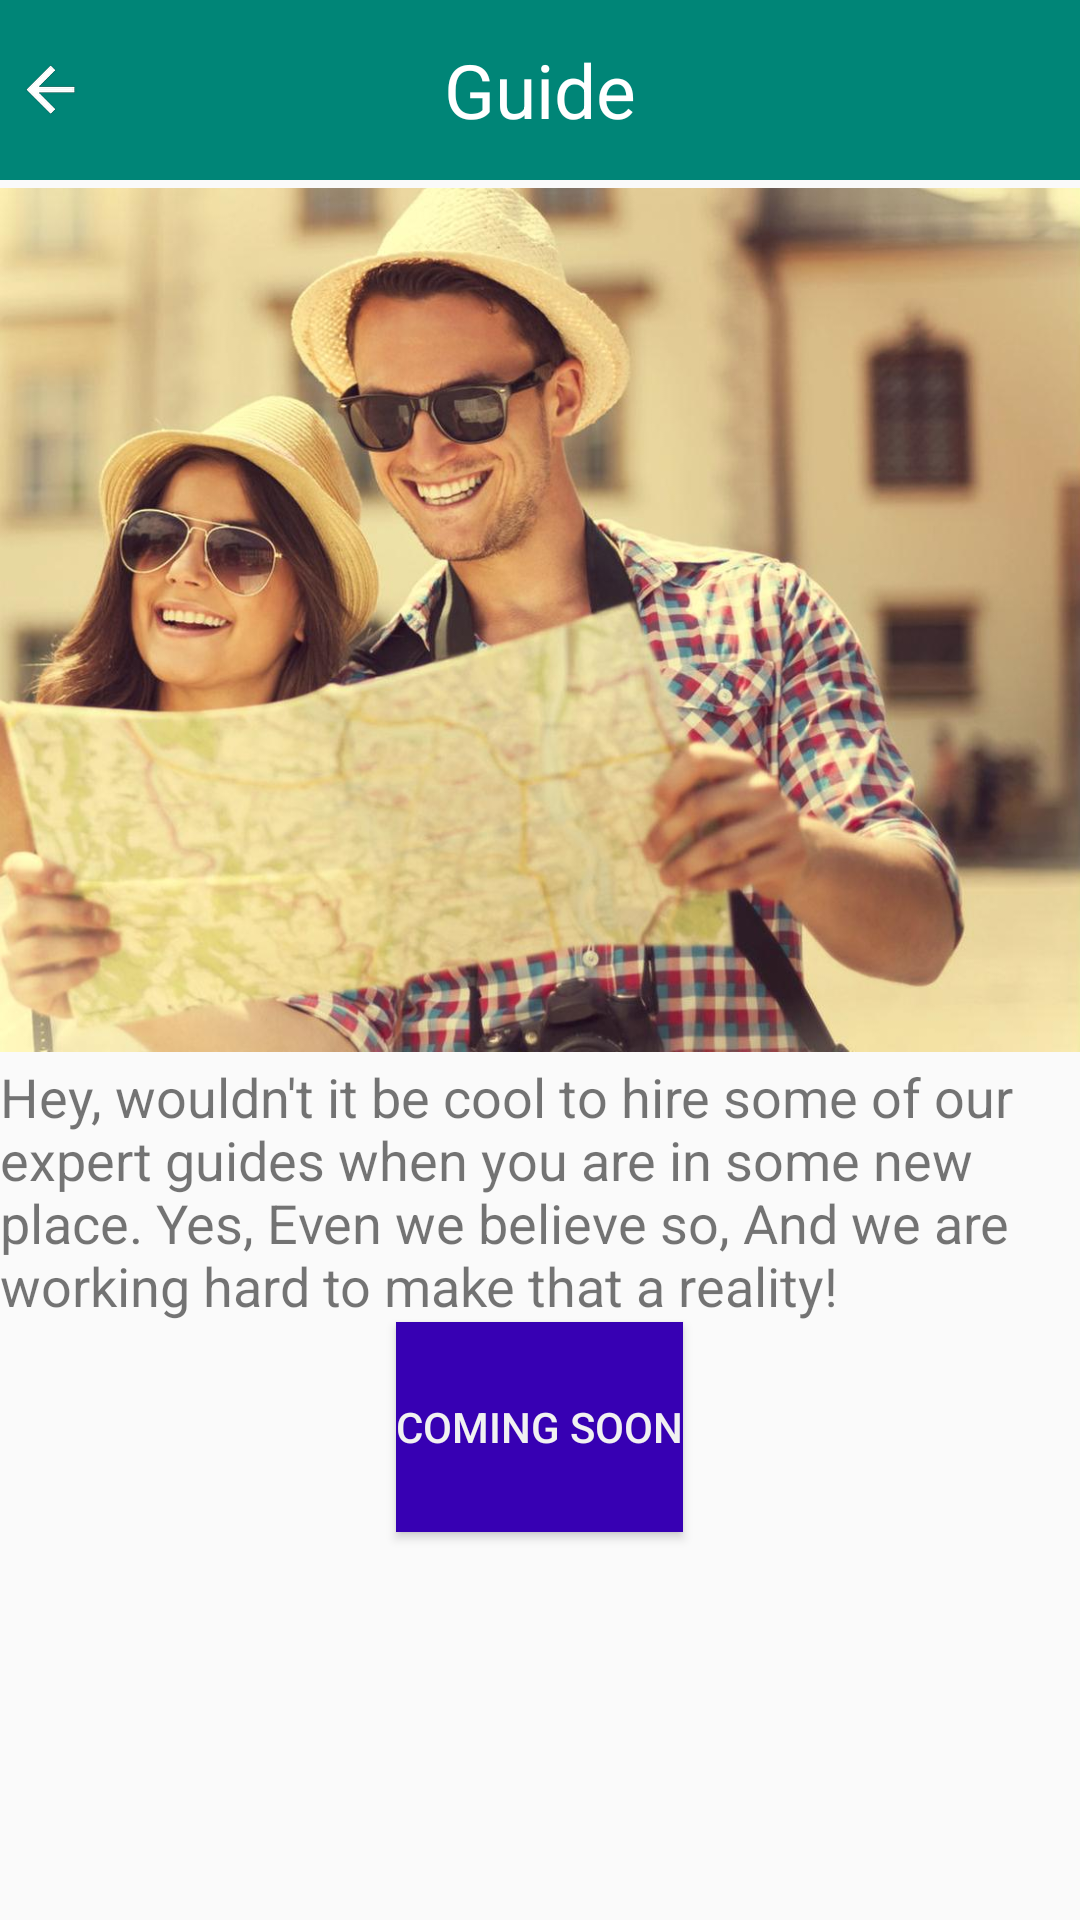

Screen size 1080×1920. Icon name, then its box in pixels as (x1,y1,x2,y2):
back: (26,65,75,114)
